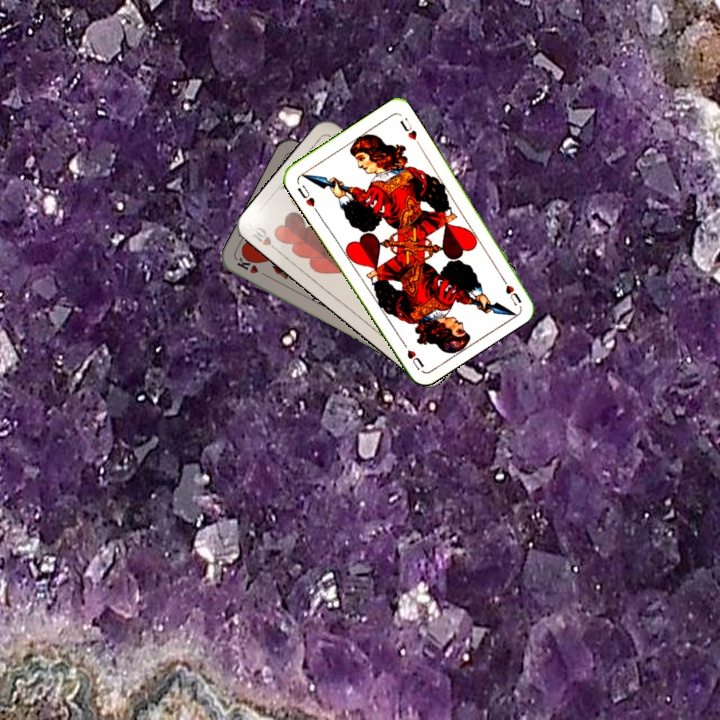H10: (248, 223, 282, 255)
HK: (233, 254, 271, 280)
HU: (496, 271, 524, 308), (293, 181, 320, 214)
